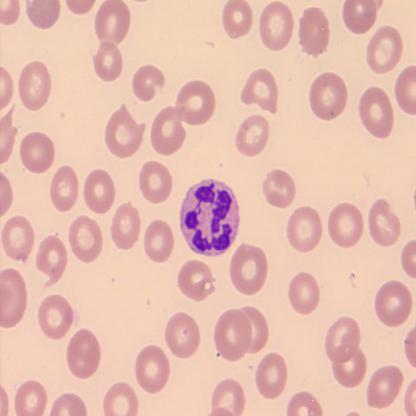Segmented neutrophil: (178, 177, 242, 257)
